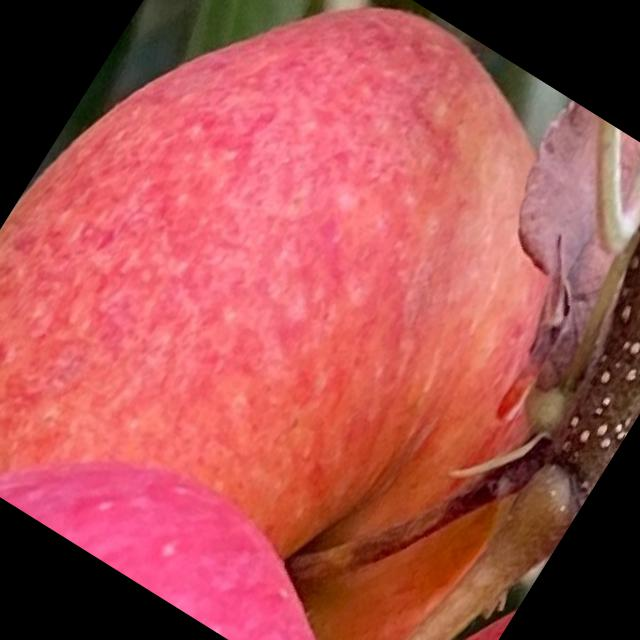Apples: (0, 0, 639, 639), (0, 383, 390, 639)
